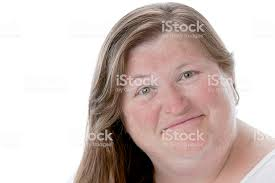white_female: (117, 32, 233, 175)
